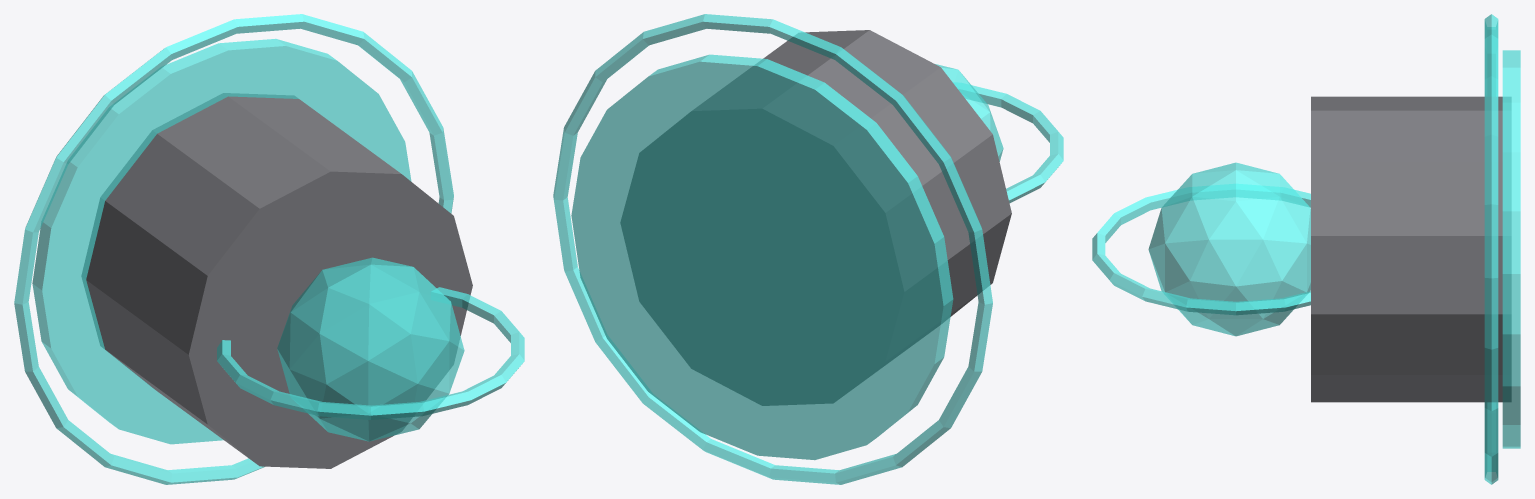
File: 05_hologram_memory_shard.glb
3 renders of one model, left to right at view 1: azimuth 30°, elevation 25°; view 2: azimuth 150°, elevation 25°; view 3: azimuth 270°, elevation 25°, orthographic. The views are drawn at different scales.
Visible parts, largest first — view 1: pedestal, base_disc, story_core, base_ring, halo; view 2: base_disc, pedestal, base_ring, halo, story_core; view 3: pedestal, story_core, base_disc, base_ring, halo.
Part boxes in pixels (x1,y1,x2,y2): pedestal: (81, 93, 472, 468); base_disc: (32, 38, 411, 444); story_core: (277, 257, 464, 441); base_ring: (14, 14, 453, 484); halo: (217, 287, 524, 419); base_disc: (571, 54, 953, 460); pedestal: (620, 30, 1011, 405); base_ring: (553, 14, 992, 484); halo: (953, 82, 1063, 202); story_core: (935, 64, 1003, 161); pedestal: (1311, 96, 1511, 402); story_core: (1148, 162, 1310, 336); base_disc: (1502, 50, 1520, 448); base_ring: (1484, 14, 1498, 484); halo: (1092, 184, 1310, 315).
Size of the model in its own units: 1.3 by 1.3 by 1.17.
